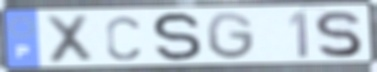1: (288, 9, 310, 60)
C: (104, 14, 143, 62)
G: (205, 11, 257, 62)
S: (150, 10, 205, 64), (312, 9, 366, 60)
X: (43, 13, 96, 66)
